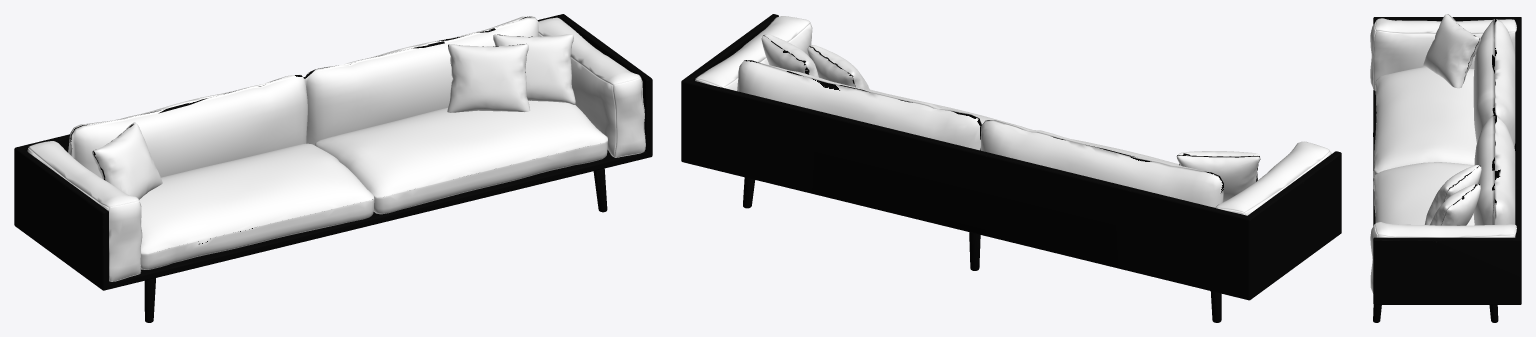
3 renders of one model, left to right at view 1: azimuth 30°, elevation 25°; view 2: azimuth 150°, elevation 25°; view 3: azimuth 270°, elevation 25°, orthographic. The views are drawn at different scales.
Parts seen in each view (by area): view 1: Leather Sofa.001; view 2: Leather Sofa.001; view 3: Leather Sofa.001.
Boxes of the visible parts, x1,y1,x2,y2 form: Leather Sofa.001: (14, 14, 652, 322); Leather Sofa.001: (681, 14, 1341, 322); Leather Sofa.001: (1370, 14, 1521, 322).
Size of the model in its own units: 3.5 by 0.8759 by 1.
1 material, 1 textured.
